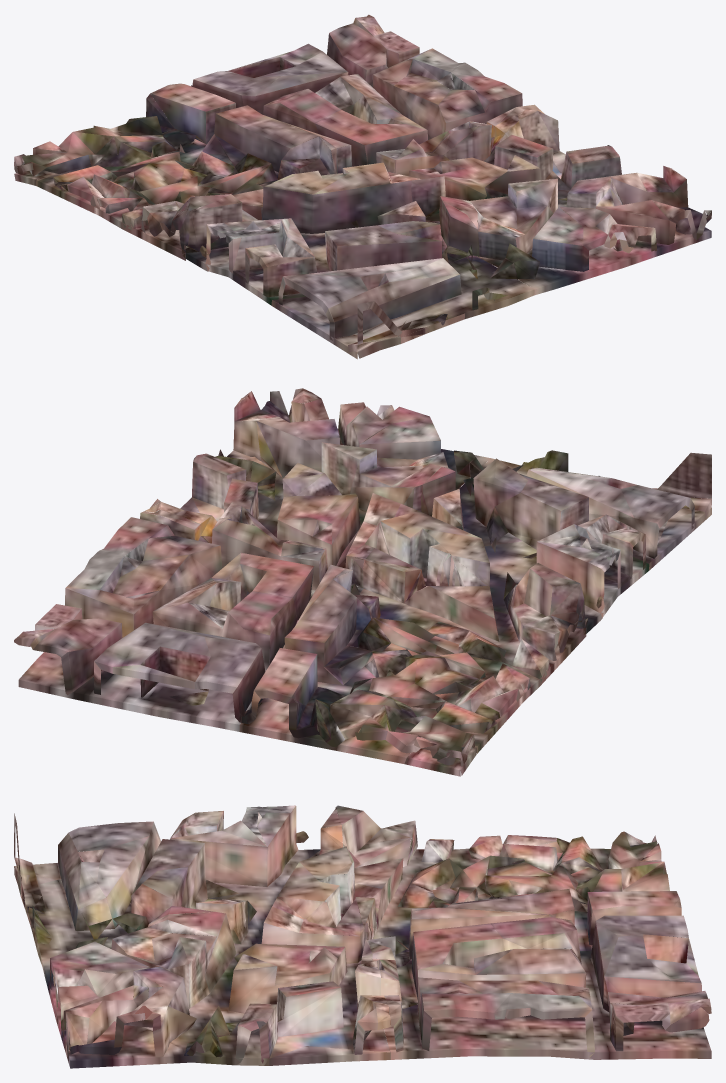
3 views of the same model, one above another, from view 1: azimuth 30°, elevation 25°; view 2: azimuth 150°, elevation 25°; view 3: azimuth 270°, elevation 25° (orthographic). The views are drawn at different scales.
Parts seen in each view (by area): view 1: Mesh_0; view 2: Mesh_0; view 3: Mesh_0.
Boxes of the visible parts, x1,y1,x2,y2 form: Mesh_0: (14,14,711,359); Mesh_0: (14,388,711,776); Mesh_0: (14,805,711,1068).
Size of the model in its own units: 266 by 47.01 by 330.
2 materials, 2 textured.
